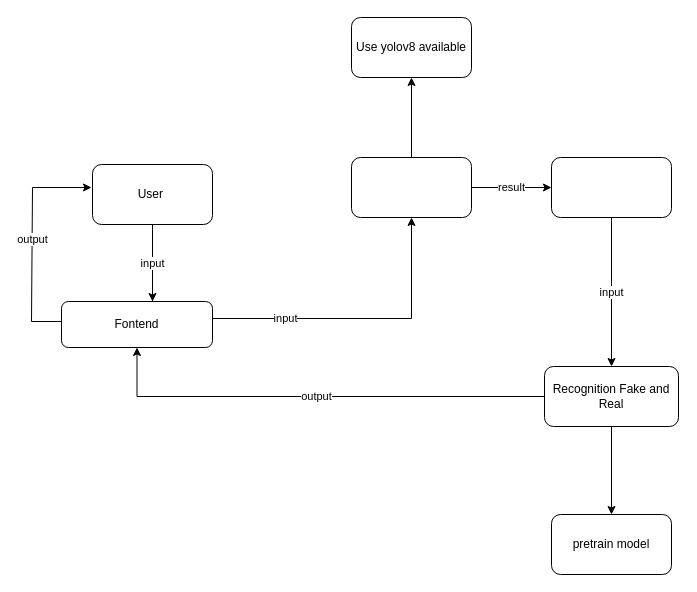
Some shapes in this 697 by 592 pixel diagram are drawn without their labels. The centre of each missing label's shape, as x and y in pixels:
"Detect face" goes at (411,187).
"Face" goes at (611,187).
